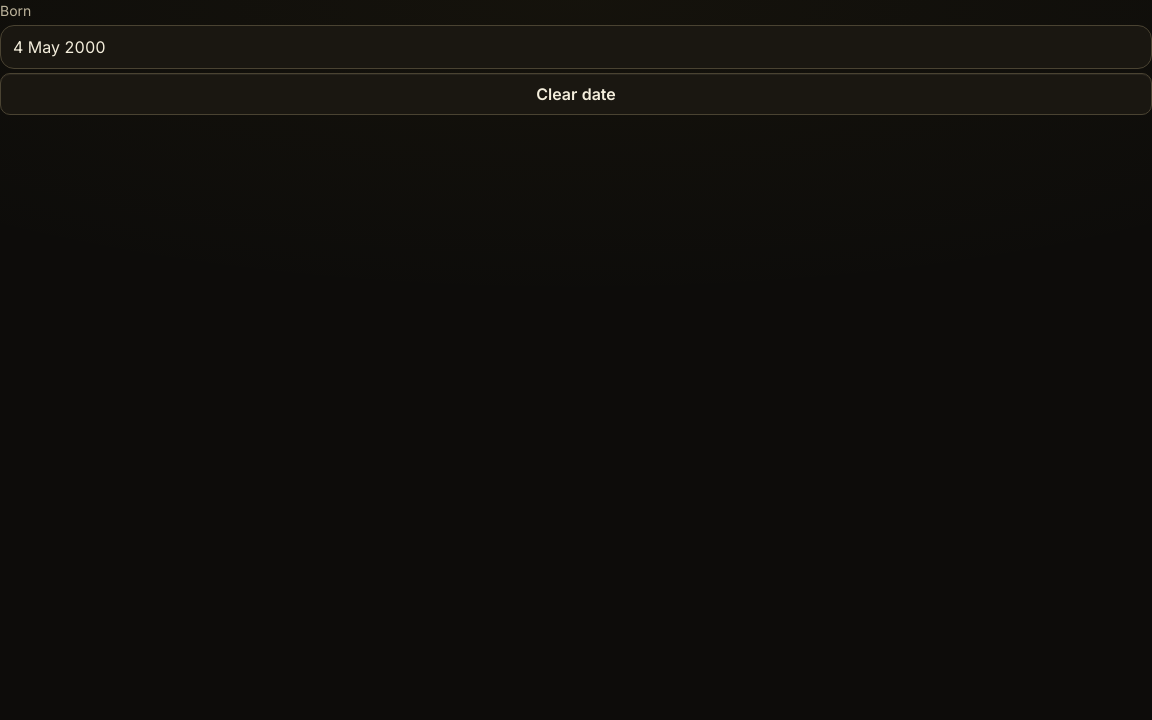
Test case: DatePicker keeps its structure under premium sheets › two dropdowns above the day grid, Cancel and Set; Clear when clearable
Click the button with class "sf-datefield" at (59,47), box x1=0 y1=25 x2=1151 y2=69
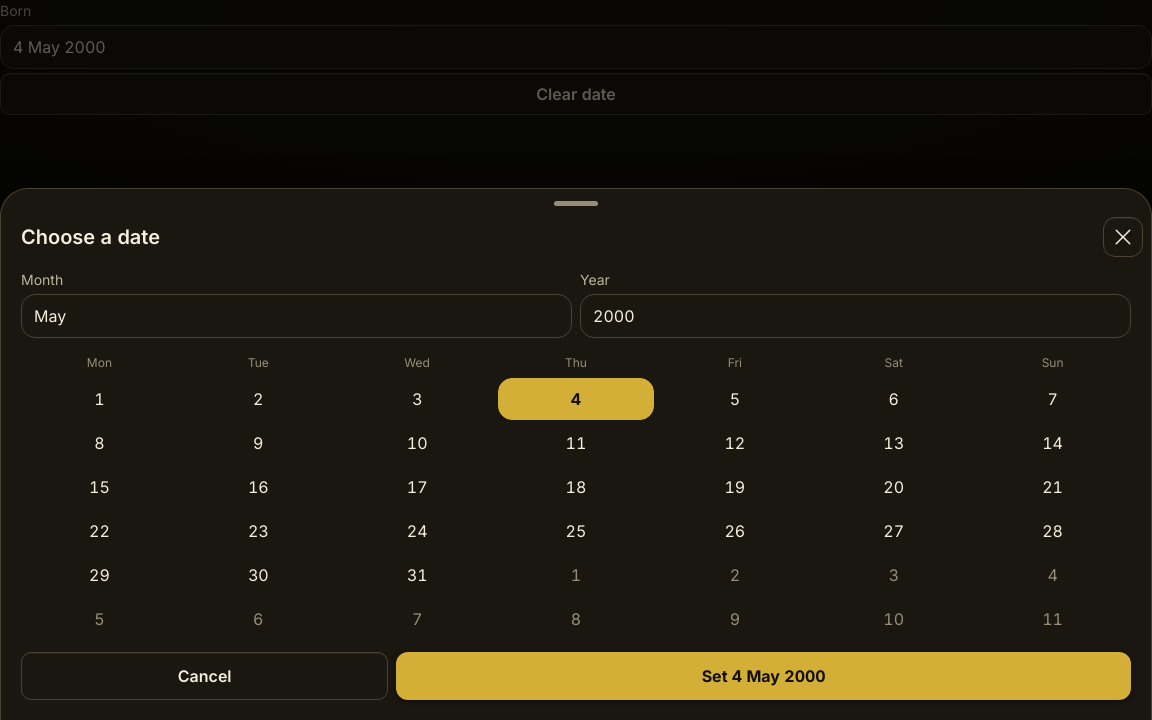
Result: the dialog with class "sf-sheet--premium" is shown
Result: the number of dropdowns is 2 at x1=21 y1=294 x2=572 y2=338; x1=580 y1=294 x2=1131 y2=338
Result: the table with class "sf-cal__grid" is shown at x1=21 y1=350 x2=1131 y2=640
